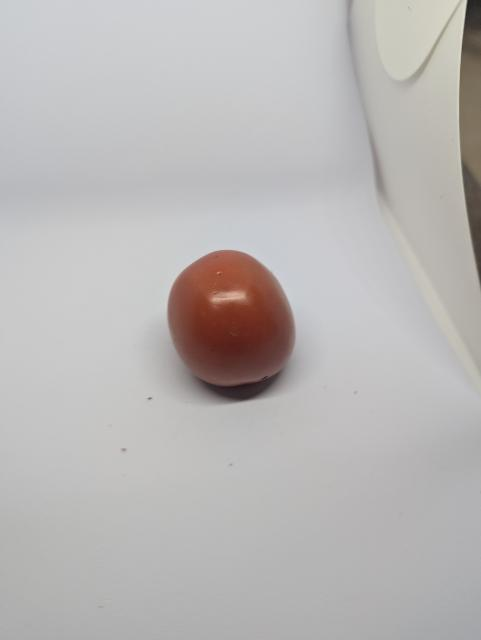red: (163, 246, 301, 391)
